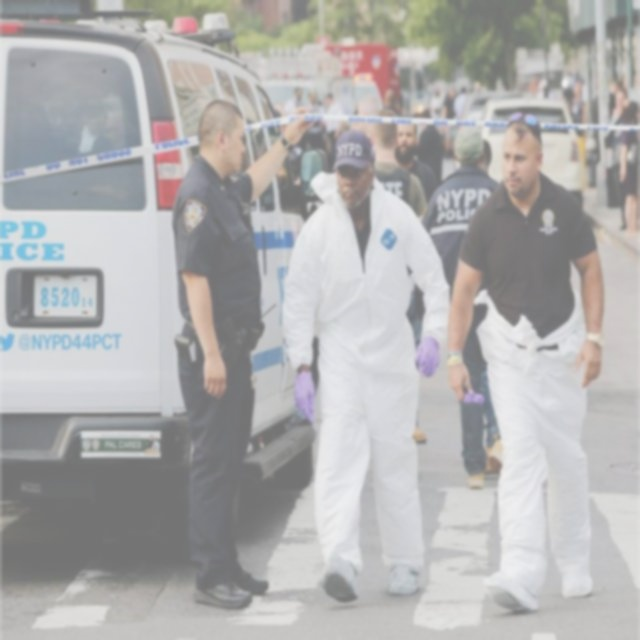pessoa: (444, 110, 606, 616), (281, 127, 451, 603), (172, 97, 316, 616), (420, 123, 504, 489), (32, 95, 124, 189), (368, 109, 428, 224), (558, 70, 598, 209), (347, 84, 405, 158), (414, 106, 444, 233), (604, 87, 630, 232), (394, 123, 439, 205), (618, 104, 640, 239), (321, 92, 344, 174), (464, 79, 486, 162), (467, 133, 502, 184), (473, 404, 491, 477), (283, 84, 313, 116), (420, 81, 442, 123), (266, 98, 286, 138), (604, 76, 624, 114), (452, 86, 470, 118), (442, 86, 458, 120), (305, 90, 325, 114)
